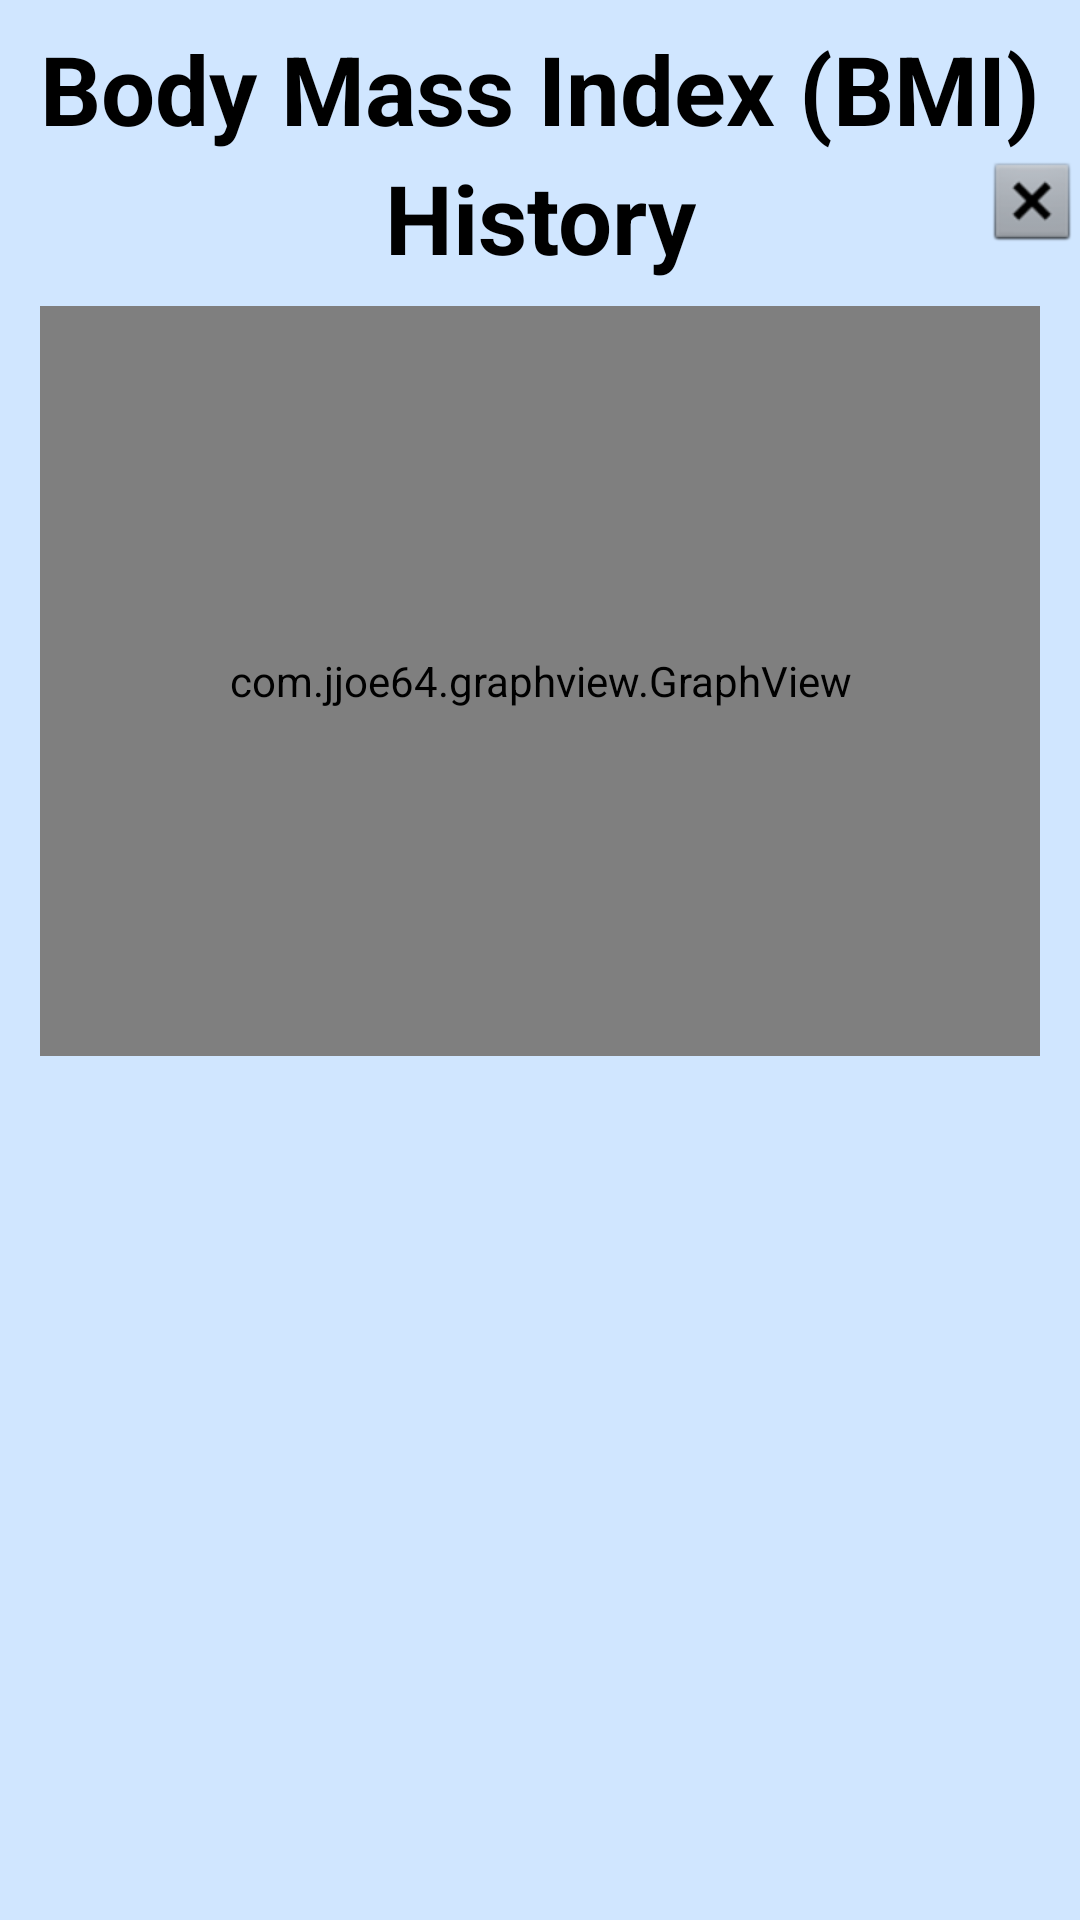

Icon click points for this 1080*1920 phone screenshot, format (x,y):
Close: (1032,201)
